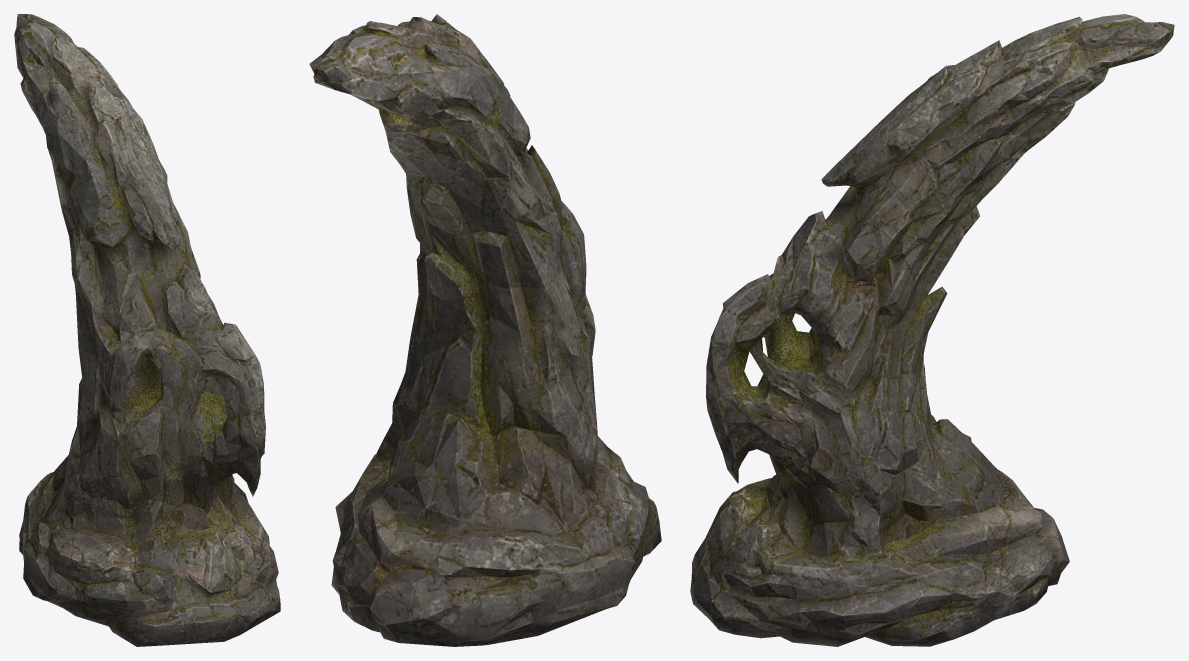
File: bg_anh_mirrorv_rock01_01_sm_old.FBX
3 renders of one model, left to right at view 1: azimuth 30°, elevation 25°; view 2: azimuth 150°, elevation 25°; view 3: azimuth 270°, elevation 25°, orthographic. The views are drawn at different scales.
Visible parts, largest first — view 1: bg_anh_mirrorv_rock01_01_sm_old; view 2: bg_anh_mirrorv_rock01_01_sm_old; view 3: bg_anh_mirrorv_rock01_01_sm_old.
Part boxes in pixels (bbox=[...]): bg_anh_mirrorv_rock01_01_sm_old: bbox=[14, 14, 280, 646]; bg_anh_mirrorv_rock01_01_sm_old: bbox=[309, 14, 661, 646]; bg_anh_mirrorv_rock01_01_sm_old: bbox=[690, 14, 1174, 646].
Bounding box in the file's own units: 669 × 1506 × 1112.
